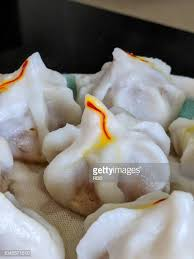modak: (47, 93, 176, 218), (75, 33, 194, 127), (5, 51, 85, 171)
